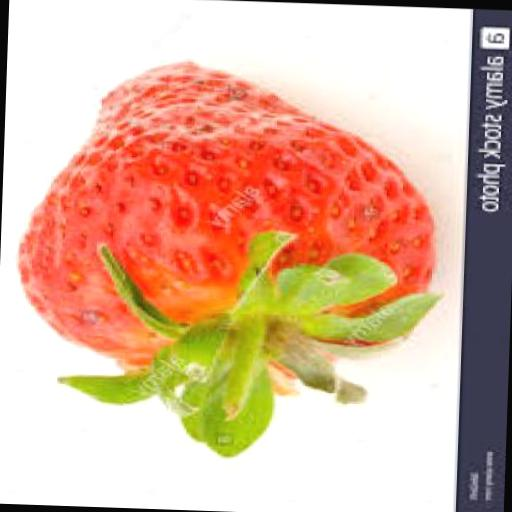biodegradable: (12, 48, 438, 462)
